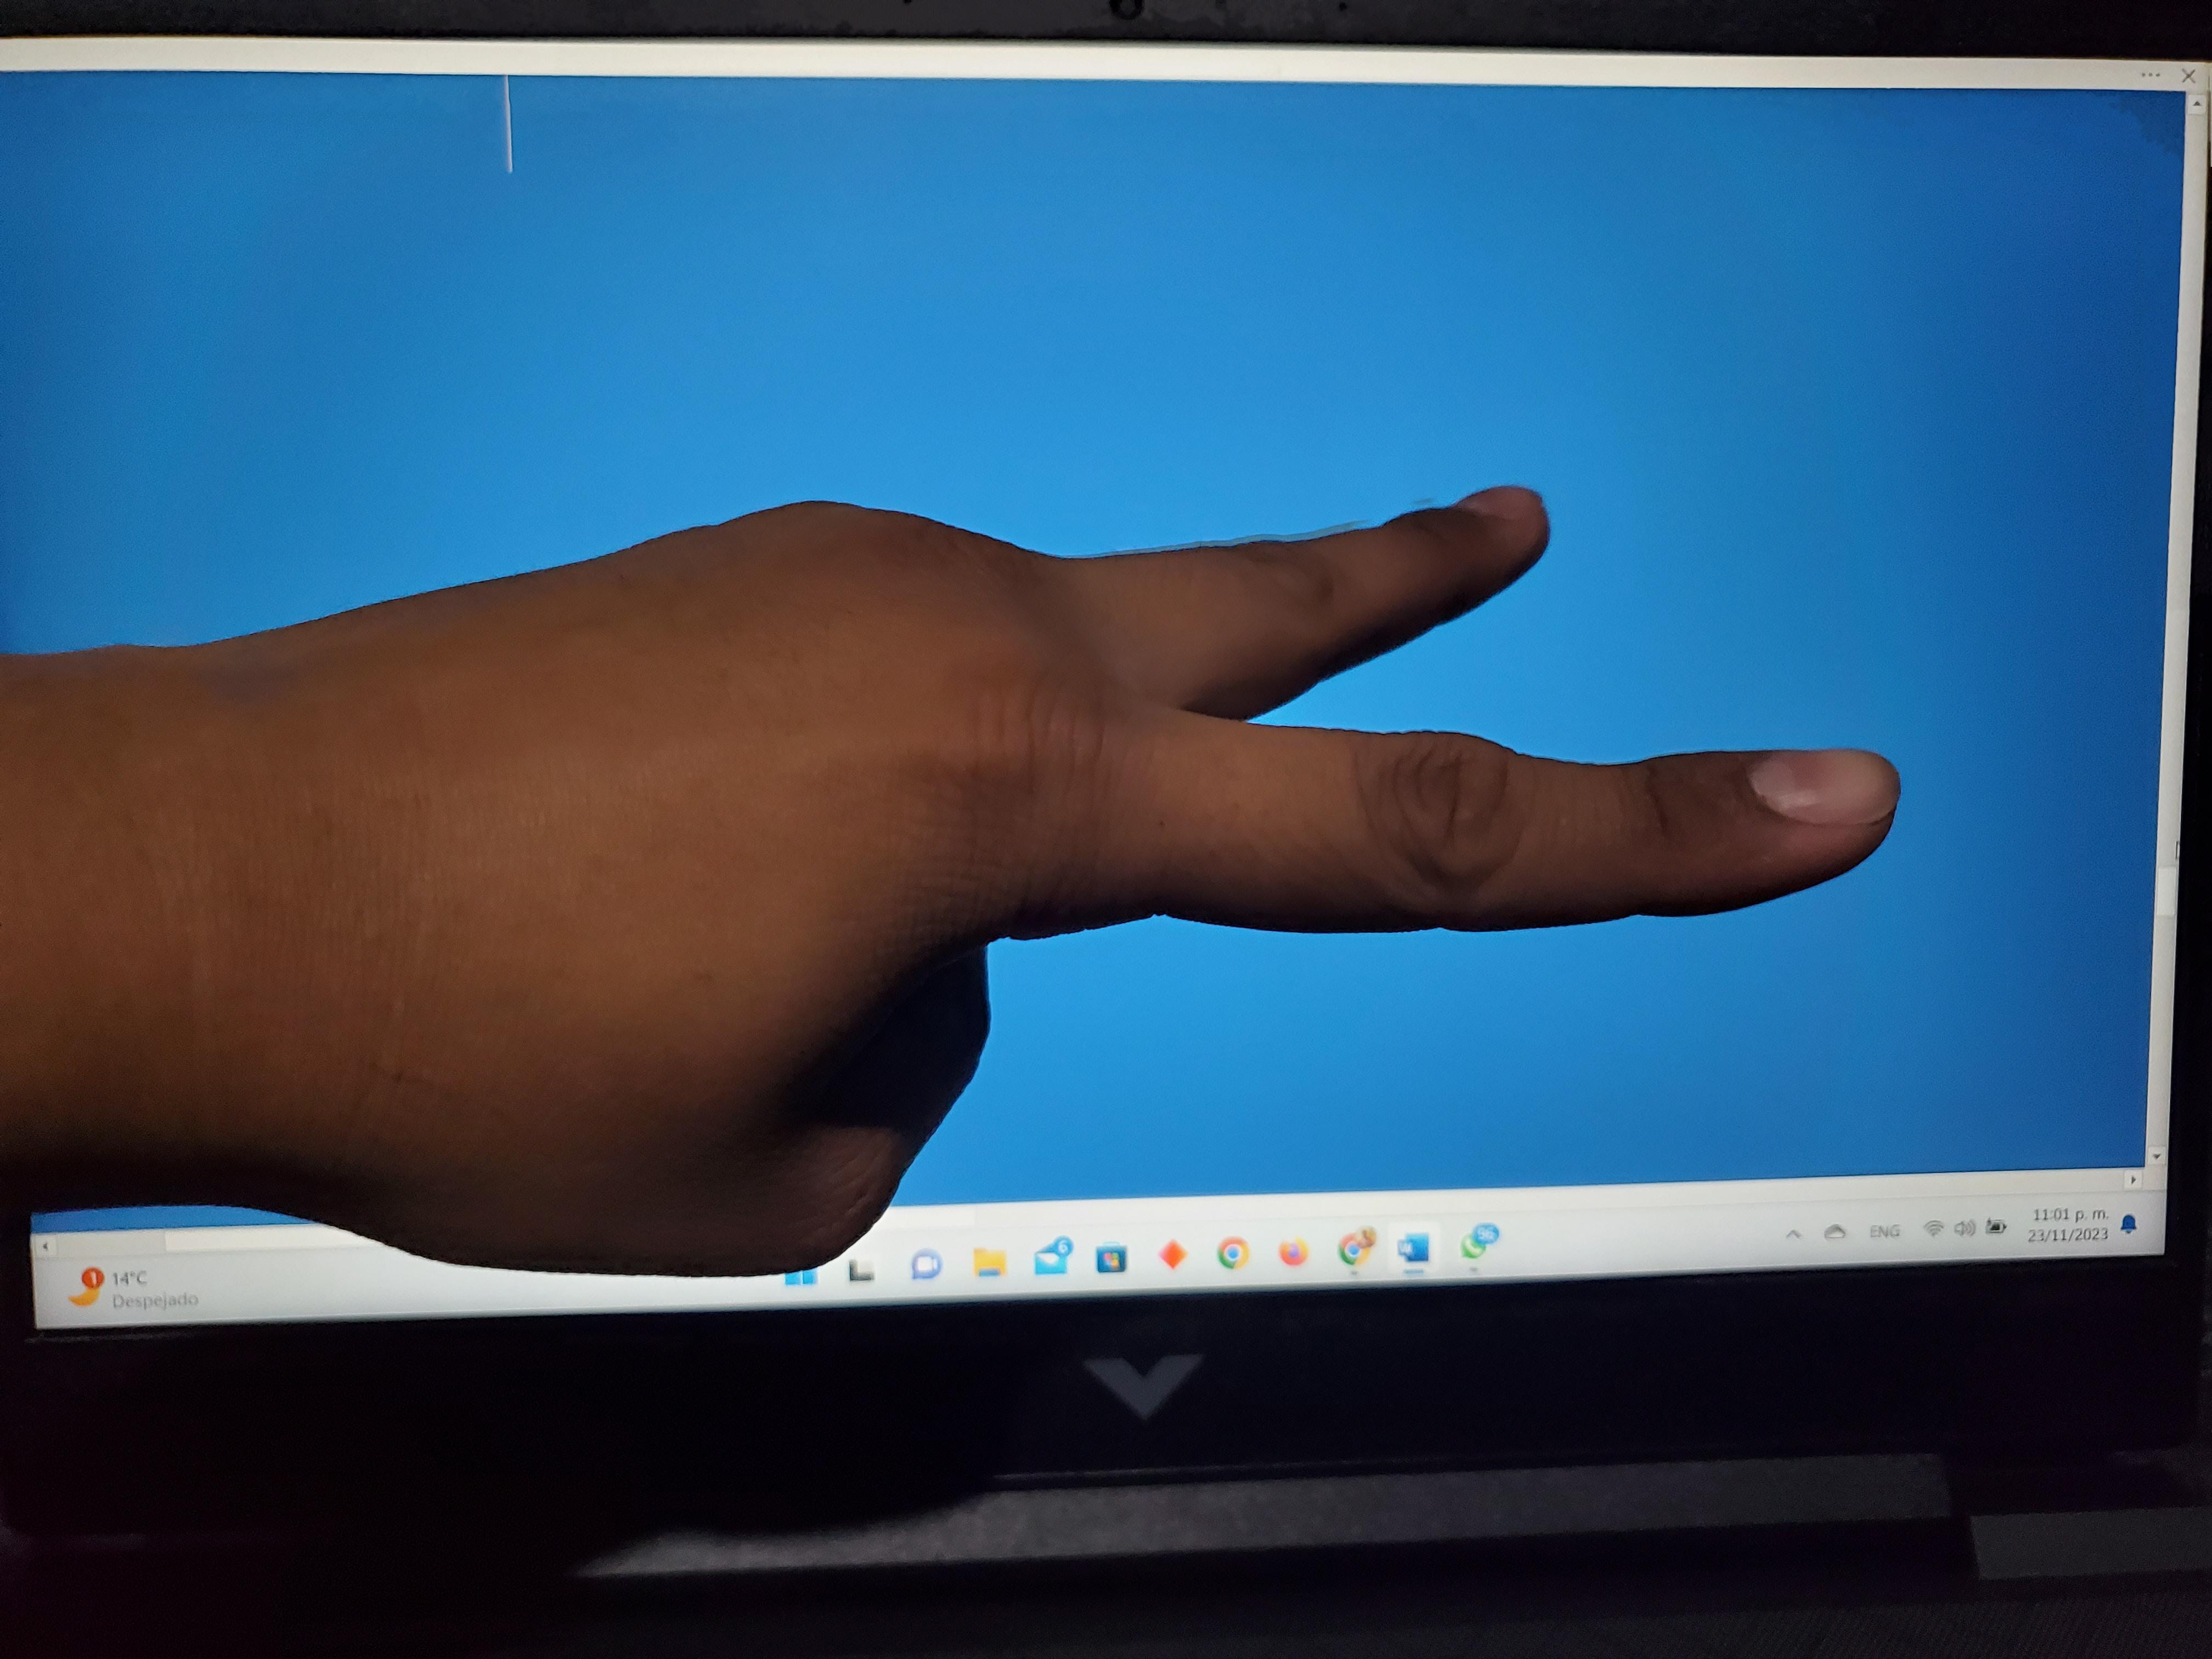Scissor: (17, 209, 2085, 1378)
